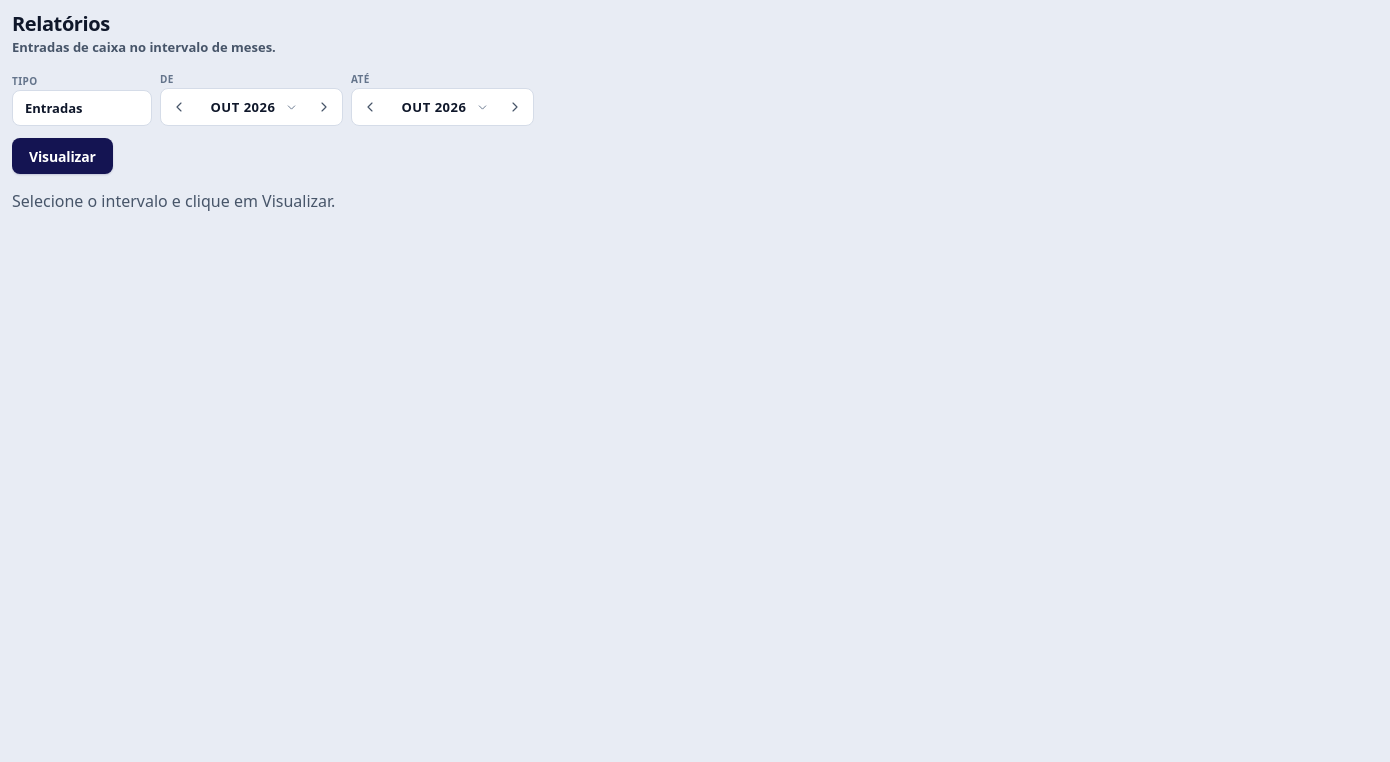
Test: página /relatorios › visualiza, grava a URL e mostra o resultado
The width and height of the screenshot is (1390, 762).
Click the button with aria-label "Visualizar relatório".
click(62, 156)  # box [12,138,113,174]
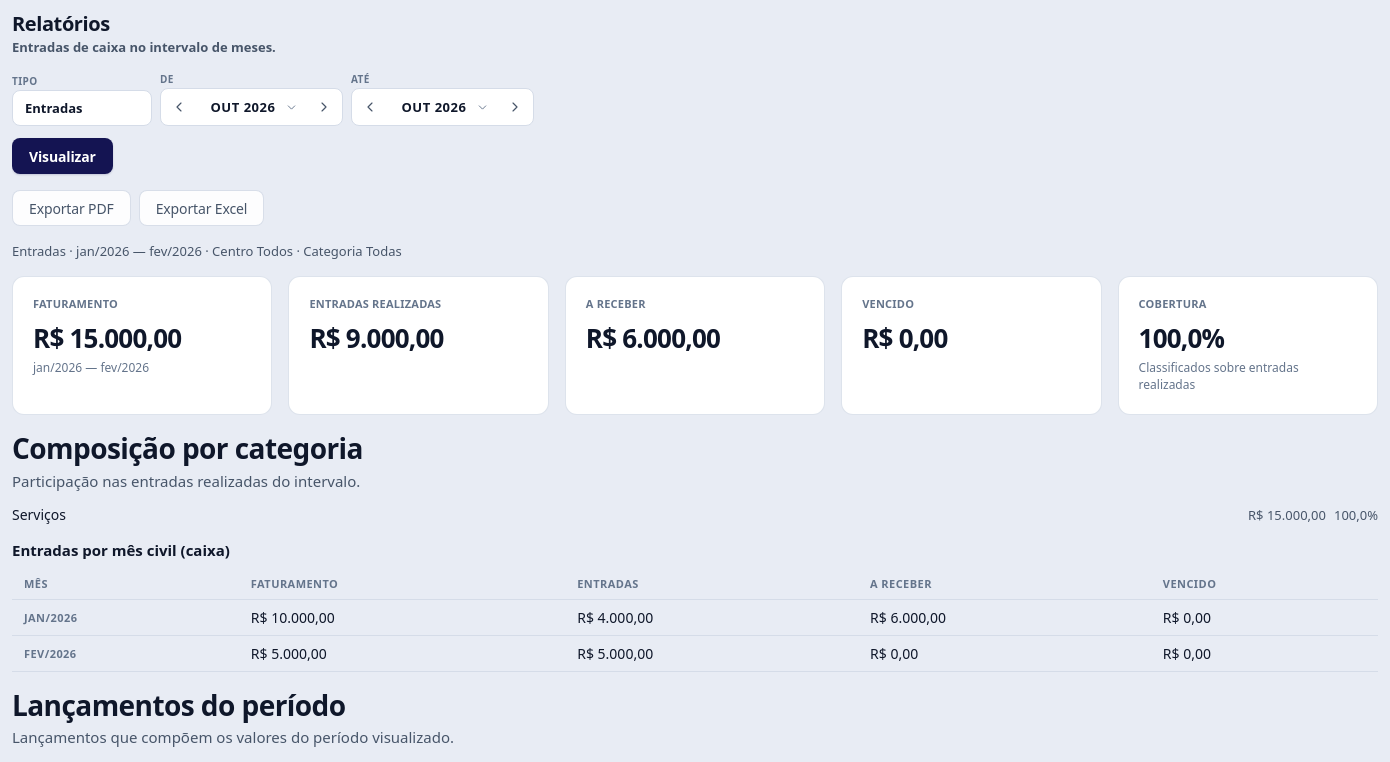
Result: the text "Serviços" is shown at [12,505,66,524]
Result: the text "Entradas por mês civil (caixa)" is shown at [12,540,230,560]
Result: the heading "Faturamento" is shown at [33,296,118,311]
